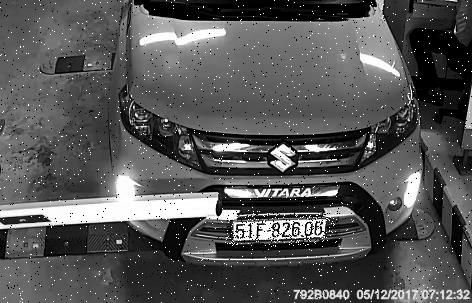License-plate: (228, 214, 342, 248)
